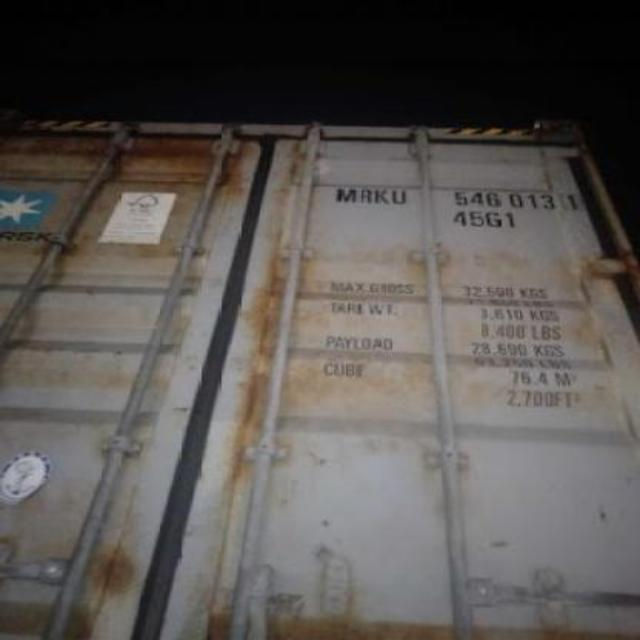0: (508, 186, 526, 210)
1: (560, 188, 584, 212), (526, 189, 540, 213)
3: (542, 190, 558, 214)
4: (471, 186, 484, 208)
5: (454, 184, 470, 206)
6: (484, 186, 504, 210)
K: (372, 184, 390, 206)
M: (336, 183, 356, 207)
R: (358, 186, 372, 207)
U: (390, 186, 414, 210)
